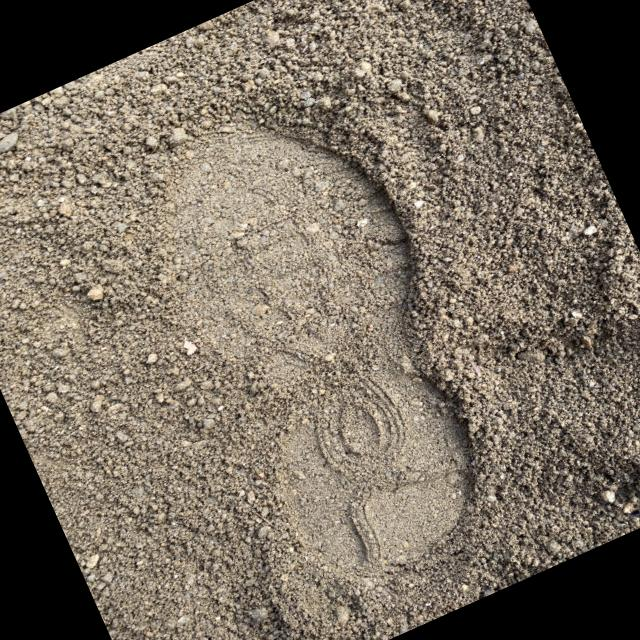human_footprint: (134, 100, 502, 640)
